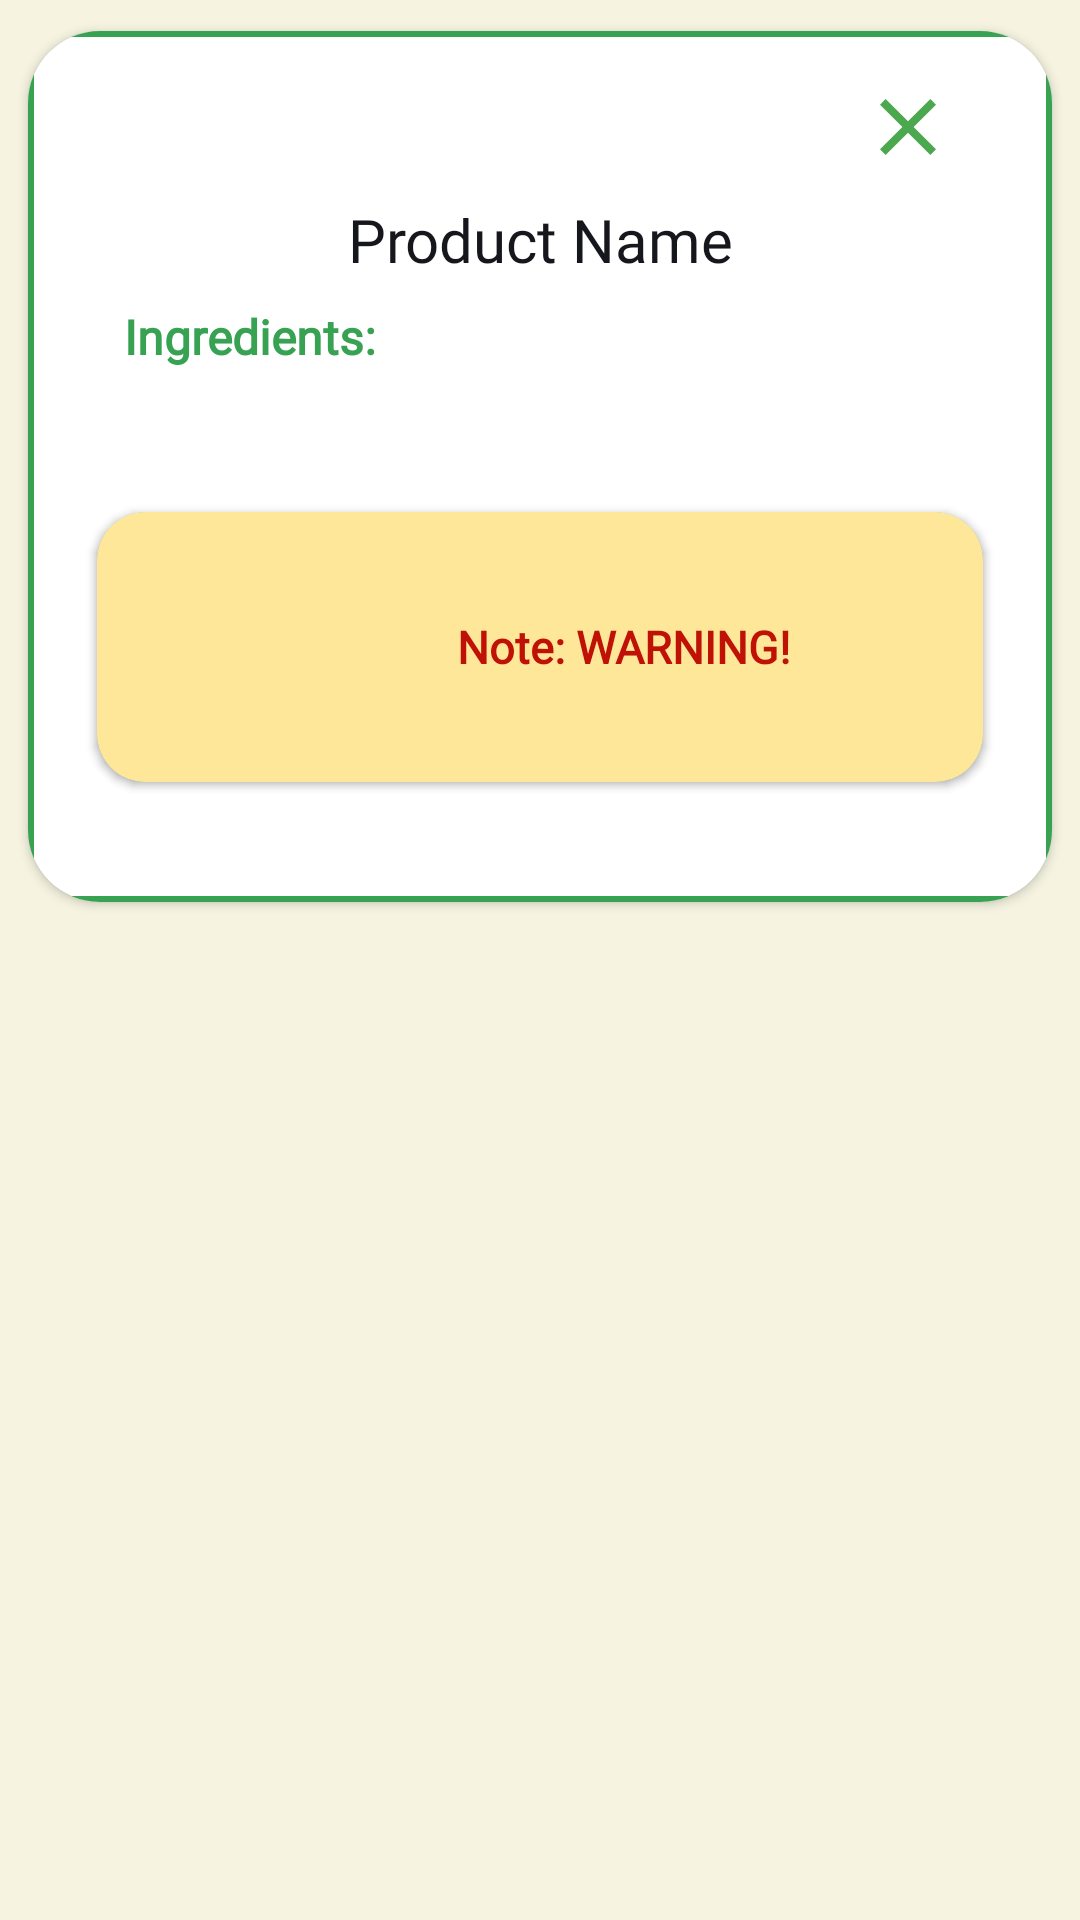

Icons on this 1080x1920 Android screen, each with its box as bbox=(x1, y1, x2, y2):
close: bbox=(880, 99, 936, 155)
